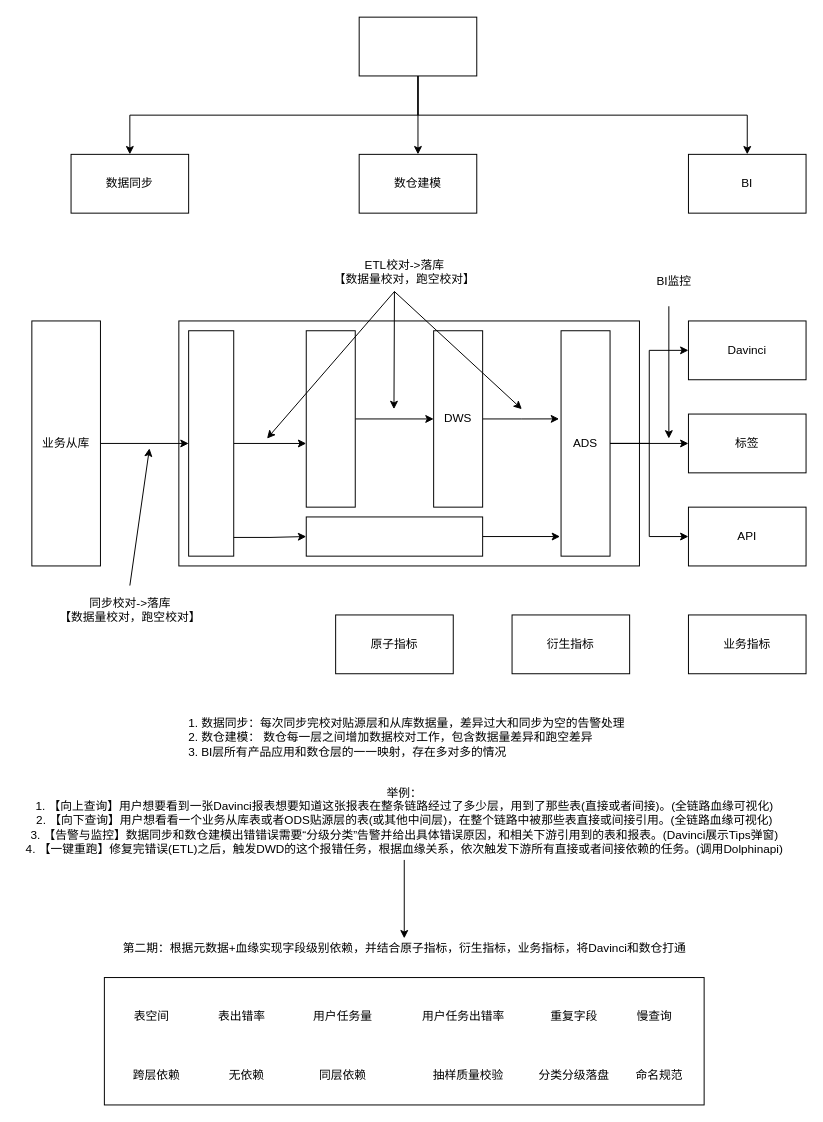
This 823x1122 diagram has some shape labels left out. The centre of each missing label's shape, as x and y in pixels:
"DIM" belongs at pixel 394 536.
"DWD" belongs at pixel 330 418.
"ODS" belongs at pixel 211 443.
"全链路监控" belongs at pixel 417 46.
